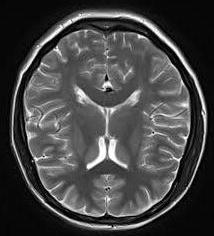Normal_Brain: (5, 2, 213, 236)
